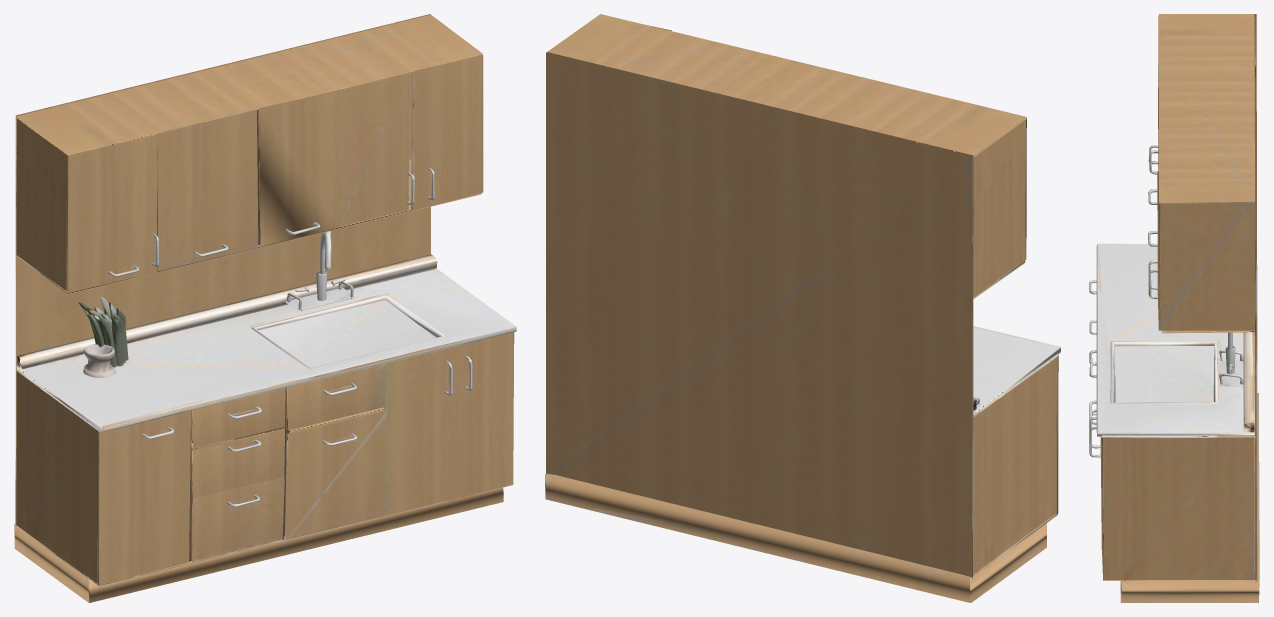
File: kitchen.glb
The picture shows the model from 3 angles, left to right: view 1: azimuth 30°, elevation 25°; view 2: azimuth 150°, elevation 25°; view 3: azimuth 270°, elevation 25°; orthographic projection. The views are drawn at different scales.
Size of the model in its own units: 1 by 1 by 0.3851.
1 material, 1 textured.
